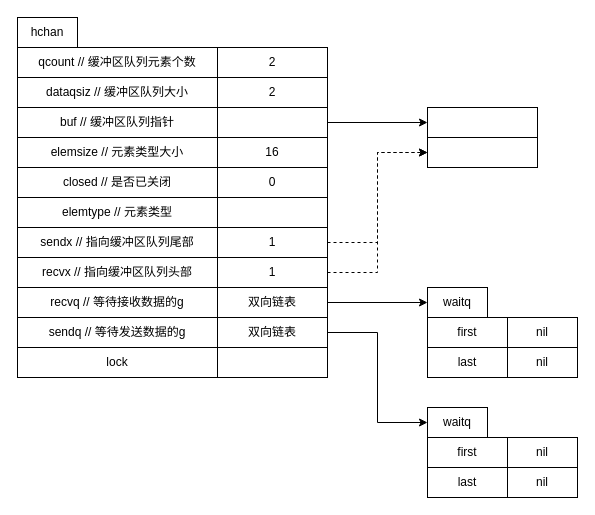
This 595x515 diagram has some shape labels left out. Here are the shapes that lost their labels. From the top down, the centre of each, then its label:
point (482, 122): "block3"
point (482, 152): "block2"
